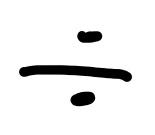div: (20, 30, 132, 106)
